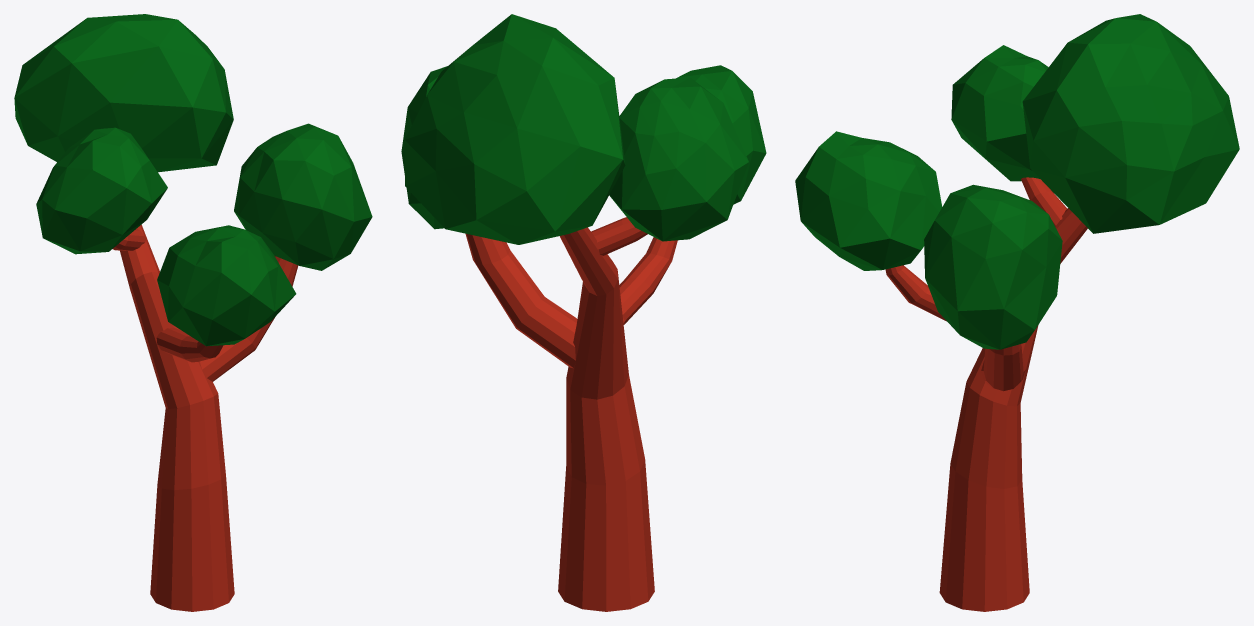
File: Tree_normal1.fbx
3 views of the same model, side by side, from view 1: azimuth 30°, elevation 25°; view 2: azimuth 150°, elevation 25°; view 3: azimuth 270°, elevation 25° (orthographic). The views are drawn at different scales.
Parts seen in each view (by area): view 1: Cylinder.004; view 2: Cylinder.004; view 3: Cylinder.004.
Part boxes in pixels (<box>): Cylinder.004: <box>14,14,372,611</box>; Cylinder.004: <box>401,14,766,611</box>; Cylinder.004: <box>795,14,1239,611</box>.
Size of the model in its own units: 179 by 302 by 214.
